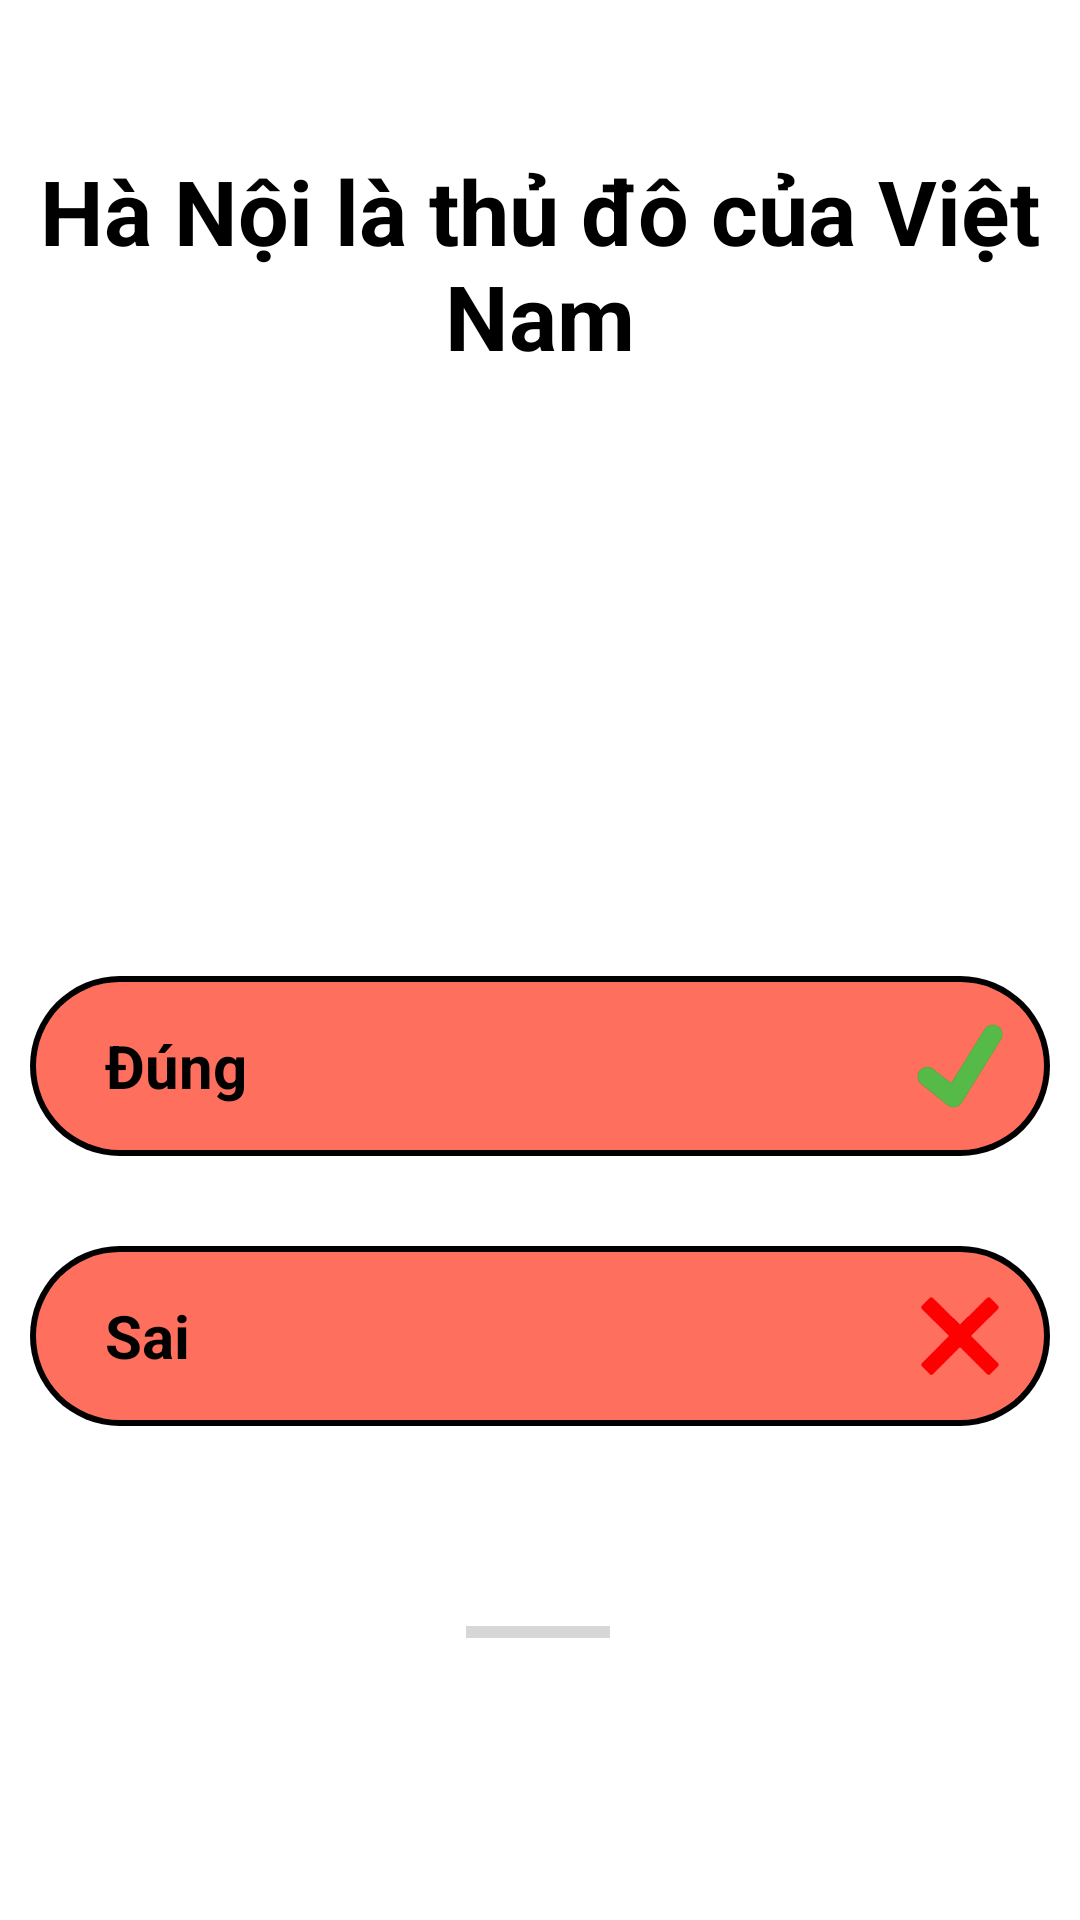

Icons on this 1080px x 1920px Android screen, each with the point to tap as (x,y):
close: (960,1336)
newtickxanh: (960,1066)
